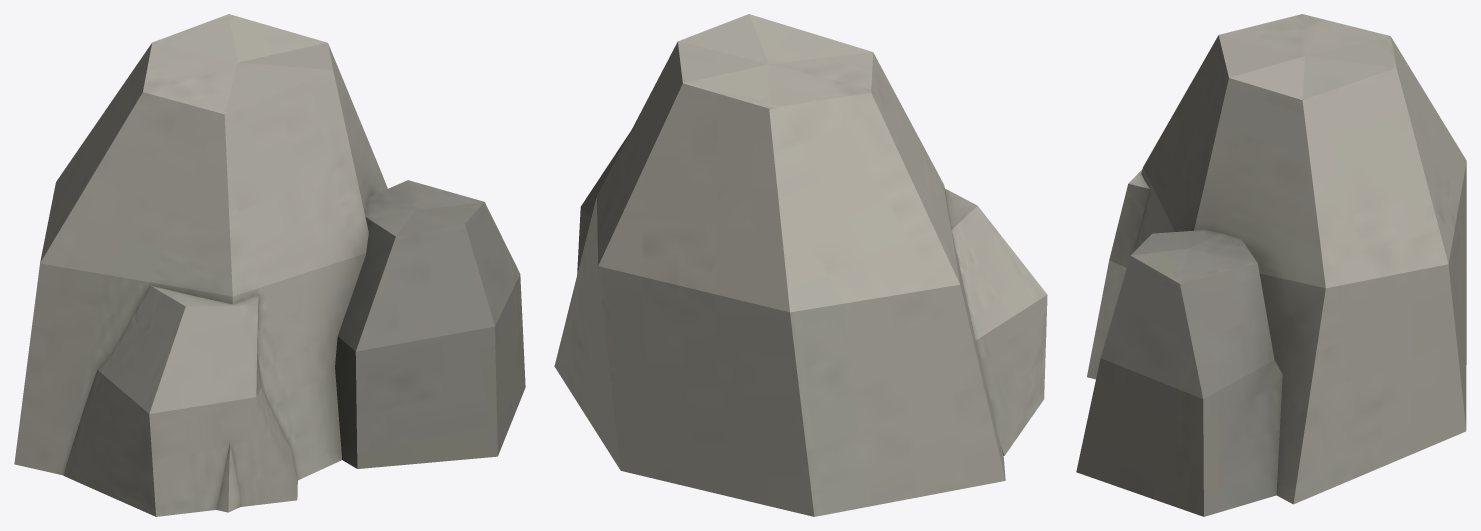
File: pedra.glb
The picture shows the model from 3 angles, left to right: view 1: azimuth 30°, elevation 25°; view 2: azimuth 150°, elevation 25°; view 3: azimuth 270°, elevation 25°; orthographic projection. The views are drawn at different scales.
Visible parts, largest first — view 1: pedra_corpo; view 2: pedra_corpo; view 3: pedra_corpo.
Boxes of the visible parts, bbox=[...] form: pedra_corpo: bbox=[14, 14, 525, 516]; pedra_corpo: bbox=[554, 14, 1047, 516]; pedra_corpo: bbox=[1076, 14, 1466, 516].
Size of the model in its own units: 0.22 by 0.16 by 0.1611.
1 material, 1 textured.
